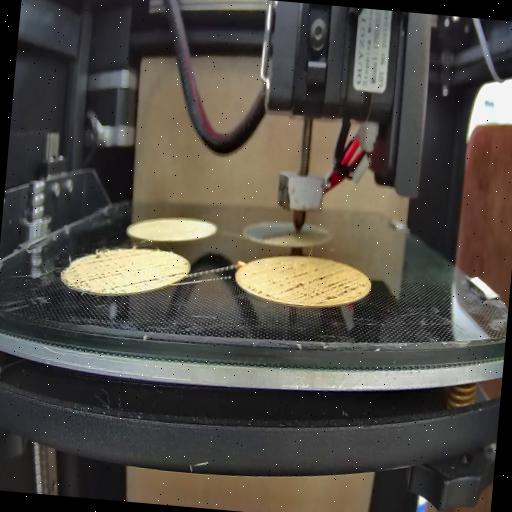under_extrusion: (248, 266, 370, 310), (62, 248, 128, 297), (129, 266, 187, 294)
